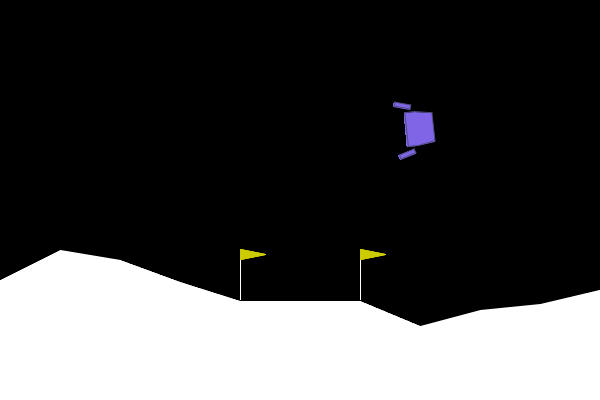lander: (392, 97, 438, 161)
